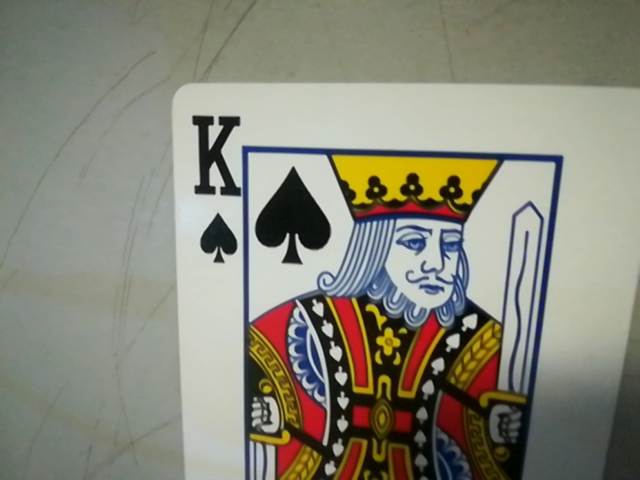ht k: (182, 102, 246, 274)
